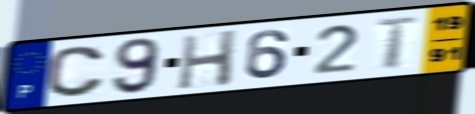2: (312, 23, 362, 76)
6: (245, 28, 290, 81)
9: (109, 36, 163, 96)
C: (45, 44, 108, 99)
H: (175, 27, 241, 91)
T: (372, 15, 422, 71)
